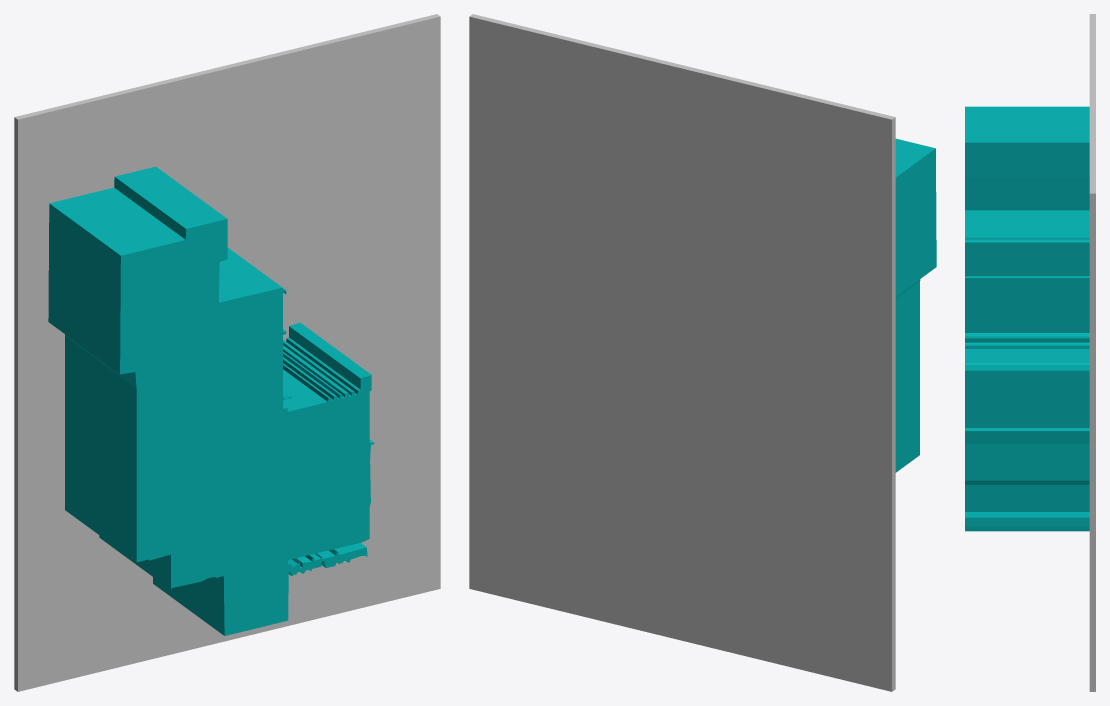
3 views of the same model, side by side, from view 1: azimuth 30°, elevation 25°; view 2: azimuth 150°, elevation 25°; view 3: azimuth 270°, elevation 25° (orthographic). The views are drawn at different scales.
Visible parts, largest first — view 1: world; view 2: world; view 3: world.
Boxes of the visible parts, x1,y1,x2,y2 form: world: [14, 14, 440, 691]; world: [469, 14, 936, 691]; world: [965, 14, 1095, 691].
Bounding box in the file's own units: 10.23 × 13.23 × 3.15.
